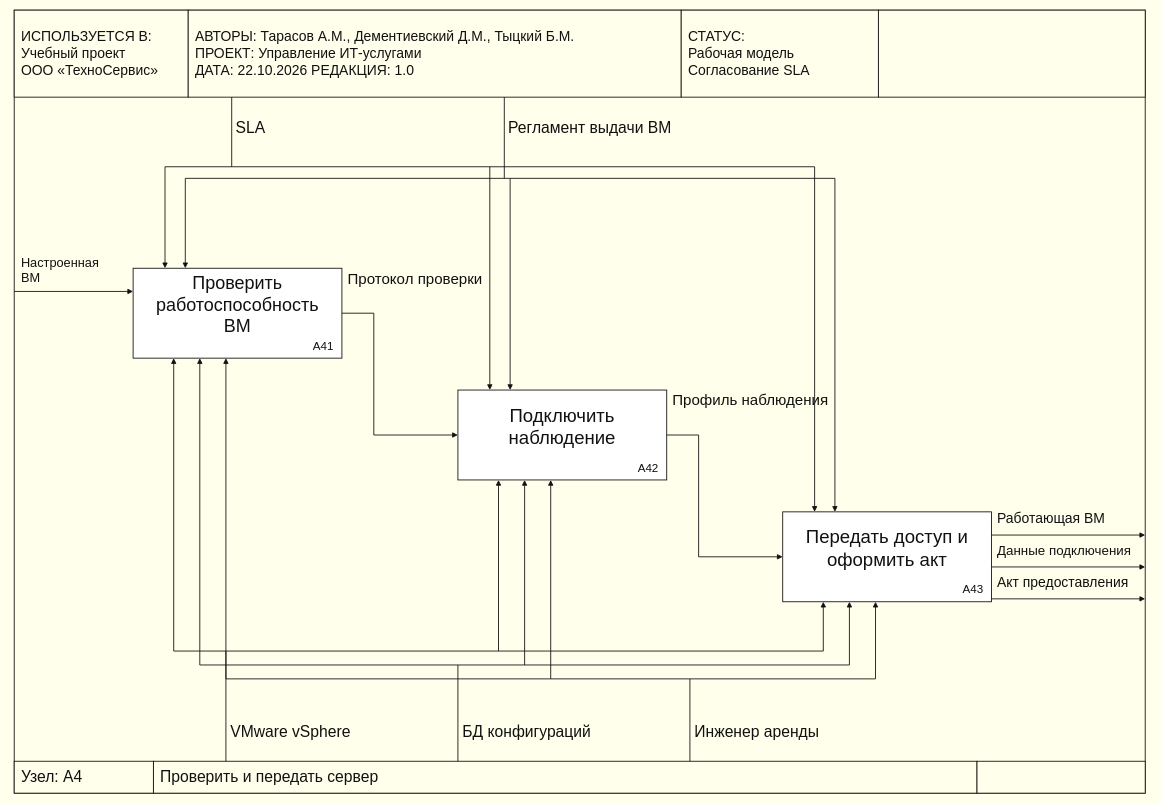
The diagram is 1161 pixels wide and 804 high, and some of its shapes have lost their labels. The centre of each missing label's shape, as x and y in pixels:
КОНТЕКСТ: A0 УЗЕЛ: A4 ГРУППА: ИКБО-74-23: (1011,53)
Лист: 6 / 6: (1060,777)
